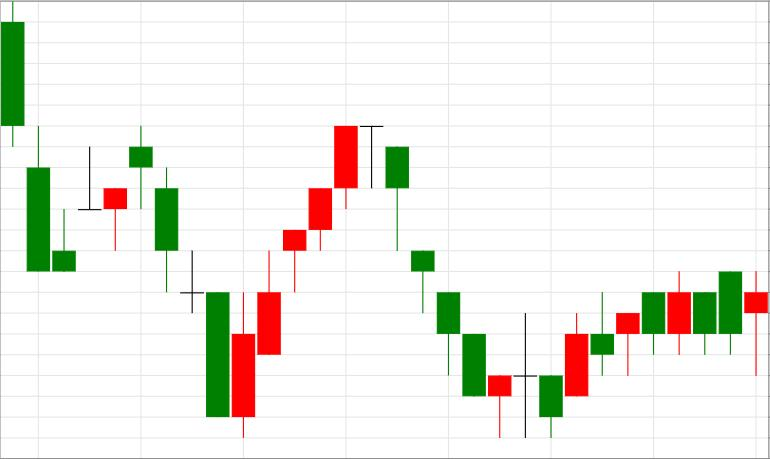evening_star_fall: (232, 124, 409, 438)
